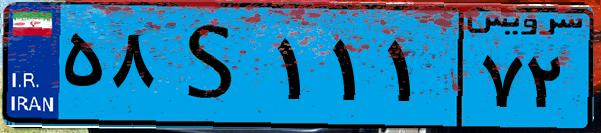1: (270, 28, 330, 110), (385, 28, 445, 110), (330, 28, 385, 110)
2: (525, 38, 570, 115)
5: (57, 26, 110, 100)
7: (475, 38, 525, 113)
8: (110, 28, 158, 98)
S: (158, 12, 270, 120)
